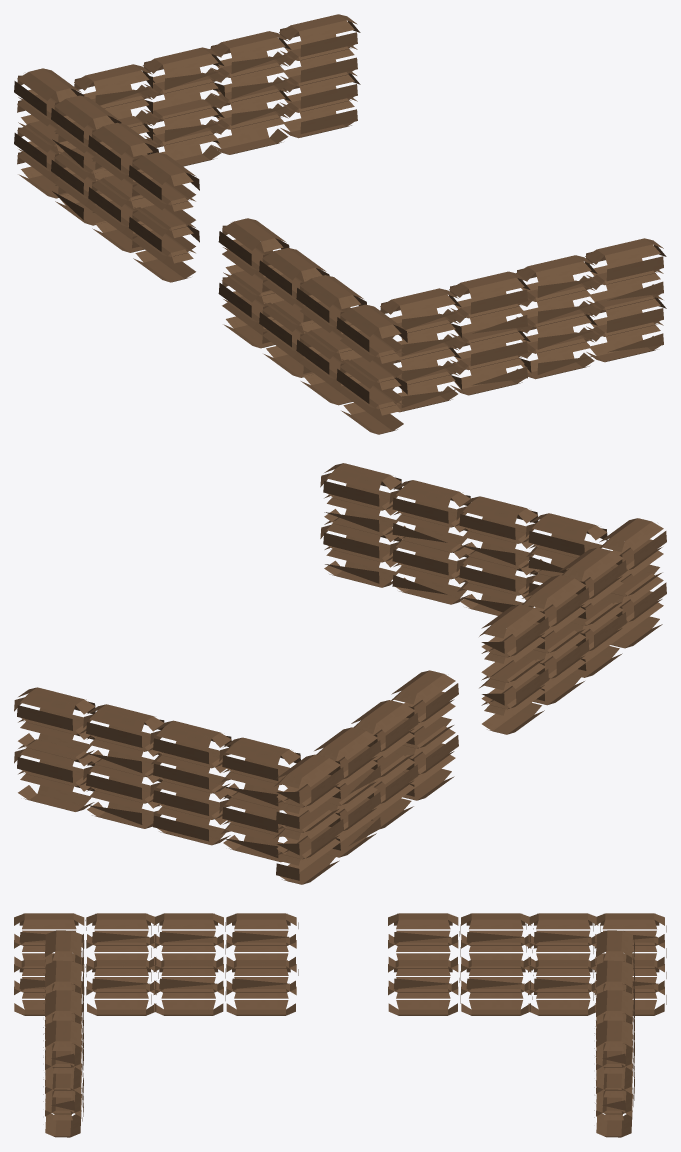
The model's file is bags_low.glb.
The picture shows the model from 3 angles, top to bottom: view 1: azimuth 30°, elevation 25°; view 2: azimuth 150°, elevation 25°; view 3: azimuth 270°, elevation 25°; orthographic projection. The views are drawn at different scales.
Parts seen in each view (by area): view 1: sand bag 02; view 2: sand bag 02; view 3: sand bag 02.
Boxes of the visible parts, x1,y1,x2,y2 form: sand bag 02: (14,14,666,434); sand bag 02: (14,463,666,884); sand bag 02: (14,913,666,1137).
Size of the model in its own units: 3.5 by 1.13 by 6.97.
Materials: 1 (1 with a texture image).
